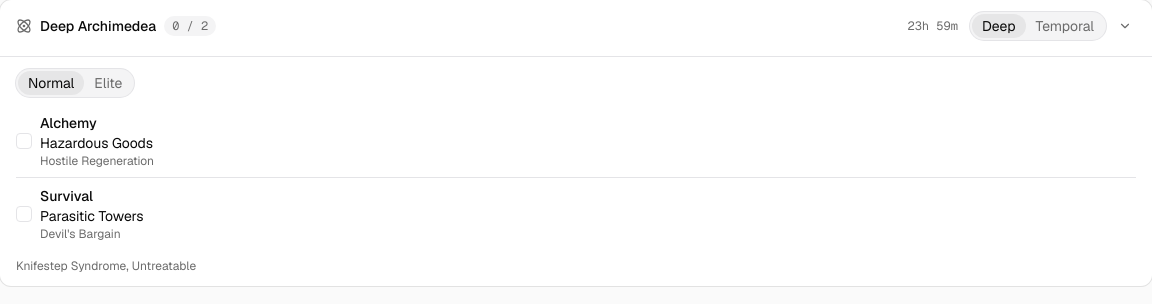
Test case: archimedea panel › shows the deep set first and switches to temporal from the toggle
The width and height of the screenshot is (1152, 304).
Expected: the text "Alchemy" is shown, [40, 114, 97, 132]
Expected: the text "Extermination" is not shown
Click the radio button labelled "Temporal": (1065, 26) [1026, 14, 1104, 38]
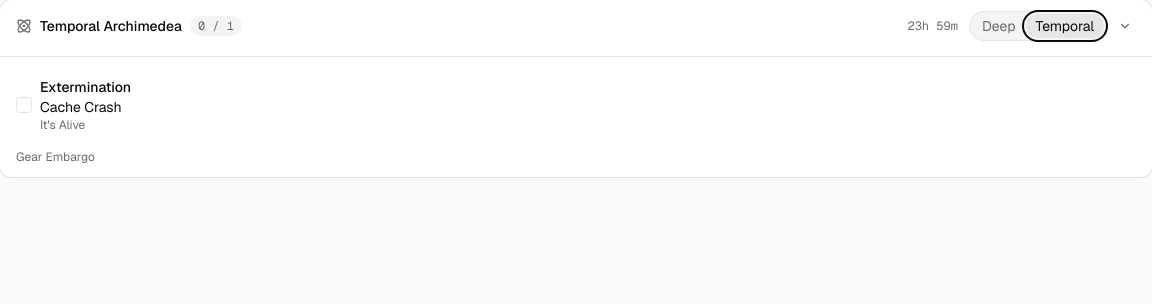
Expected: the text "Extermination" is shown, [40, 78, 131, 96]
Expected: the text "Cache Crash" is shown, [40, 98, 122, 116]
Expected: the text "Alchemy" is gone
